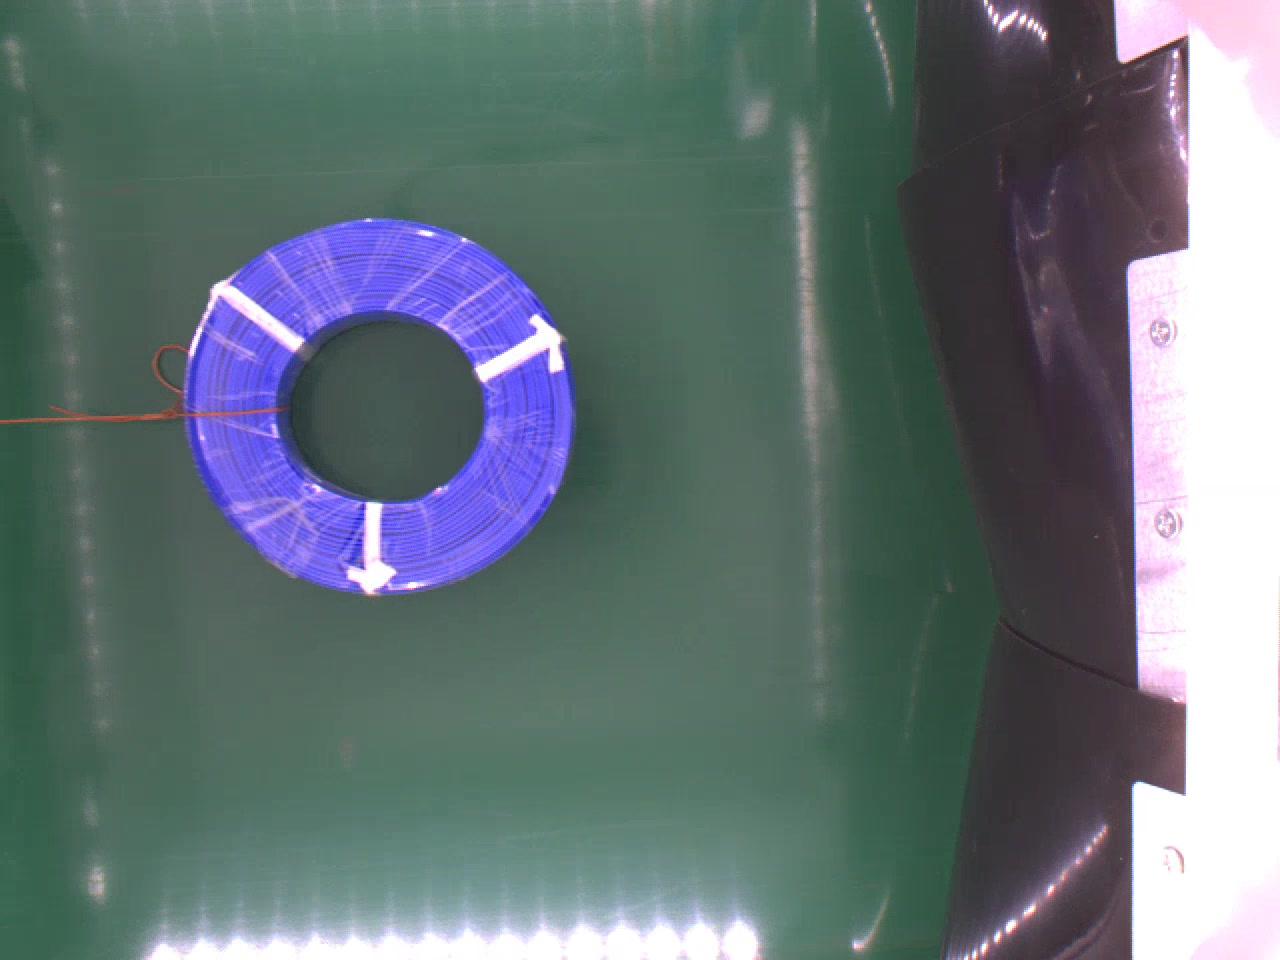blue: (180, 211, 570, 590)
